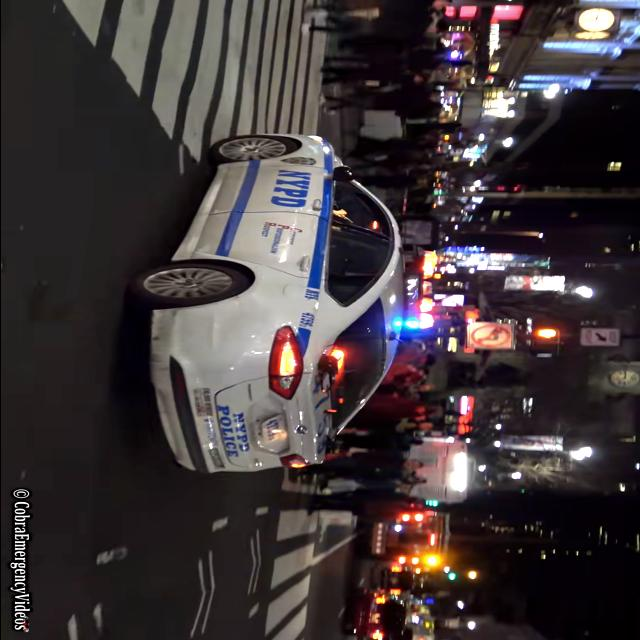emergency-vehicles: (114, 106, 443, 480)
